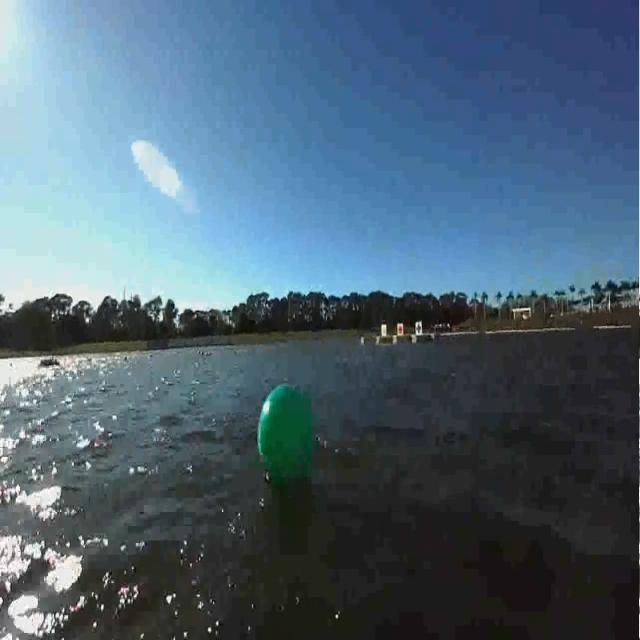green-buoy: (256, 380, 312, 490)
